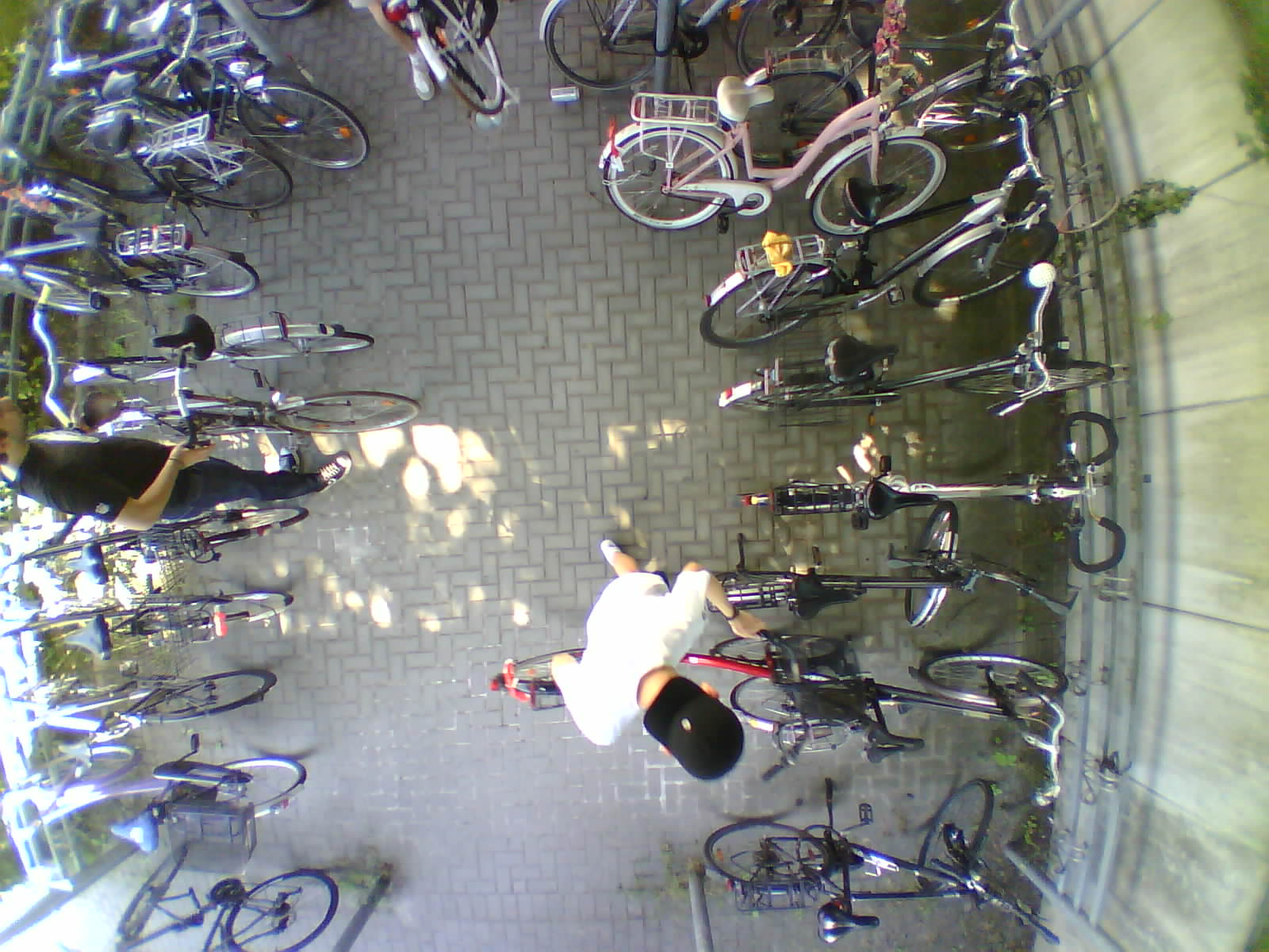bicylce: (700, 174, 1054, 349), (601, 83, 943, 233), (726, 27, 1054, 175), (702, 782, 995, 927), (53, 56, 371, 176), (720, 336, 1111, 428), (734, 656, 1067, 756), (721, 502, 979, 624), (17, 743, 309, 849), (0, 115, 292, 217), (48, 313, 375, 393), (27, 491, 312, 579), (10, 668, 277, 756), (109, 850, 341, 951), (734, 464, 1096, 528), (6, 582, 296, 660), (1, 214, 257, 302), (78, 383, 415, 443), (49, 29, 273, 113)
saddle: (826, 335, 901, 386), (845, 175, 904, 227), (796, 575, 859, 622), (815, 907, 880, 950), (718, 77, 776, 124), (867, 481, 939, 518), (150, 316, 213, 358), (863, 726, 923, 769), (62, 616, 110, 660), (64, 542, 110, 586), (54, 210, 109, 246), (111, 813, 158, 855), (81, 386, 127, 427), (89, 114, 132, 153), (124, 4, 173, 38), (844, 12, 891, 45), (56, 744, 94, 769), (103, 73, 142, 97)
